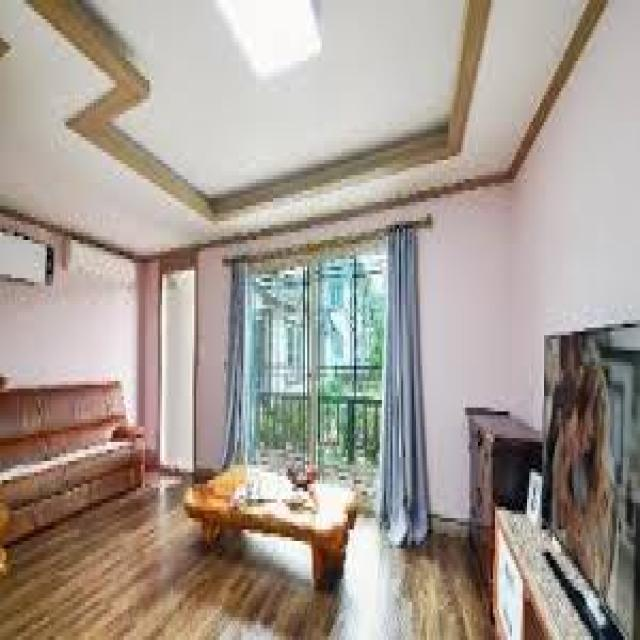Sofa: (2, 378, 146, 531)
Table: (190, 458, 360, 582)
tv: (539, 328, 640, 626)
window: (231, 257, 399, 483)
